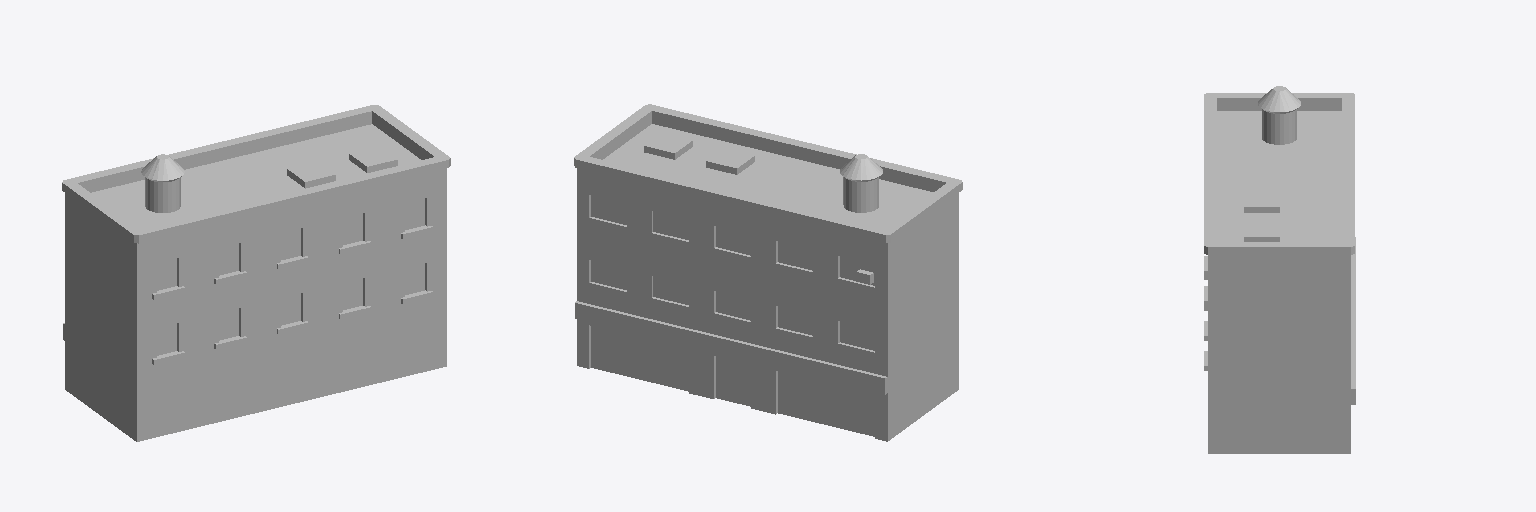
Rendered from large_building_f.obj.
3 views of the same model, side by side, from view 1: azimuth 30°, elevation 25°; view 2: azimuth 150°, elevation 25°; view 3: azimuth 270°, elevation 25° (orthographic).
Visible parts, largest first — view 1: large_buildingF; view 2: large_buildingF; view 3: large_buildingF.
Part boxes in pixels (x1,y1,x2,y2): large_buildingF: (62,105,450,441); large_buildingF: (574,104,962,441); large_buildingF: (1204,86,1355,453).
Bounding box in the file's own units: 4.08 × 3 × 1.69.